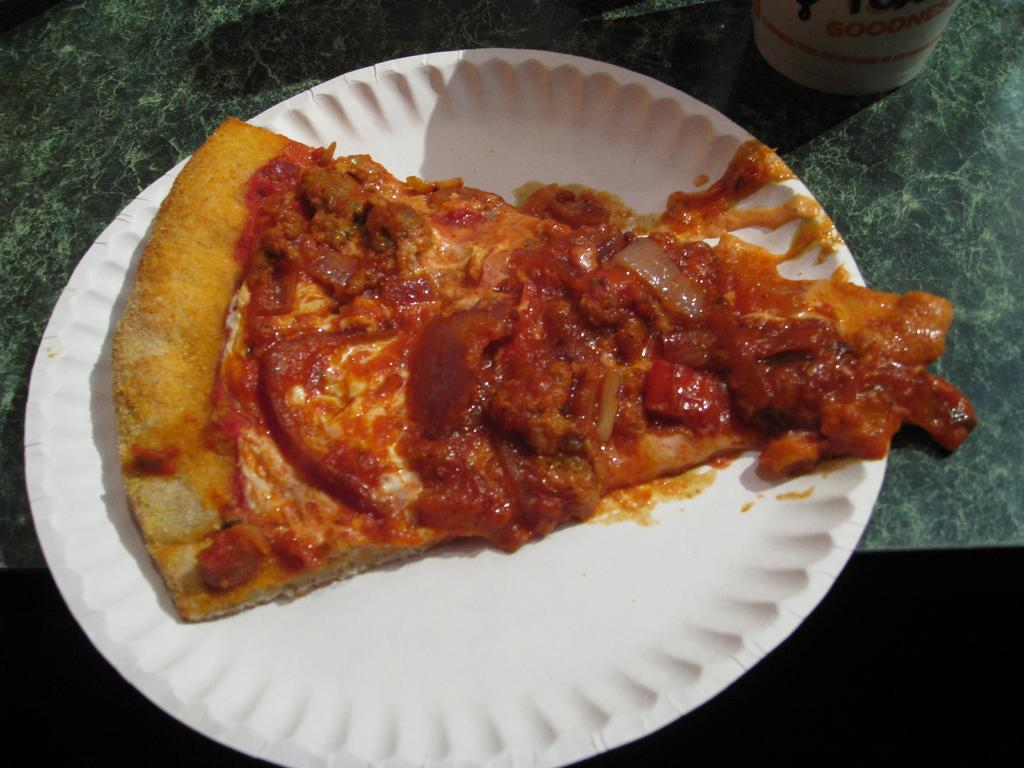Pizza: (176, 115, 962, 624)
